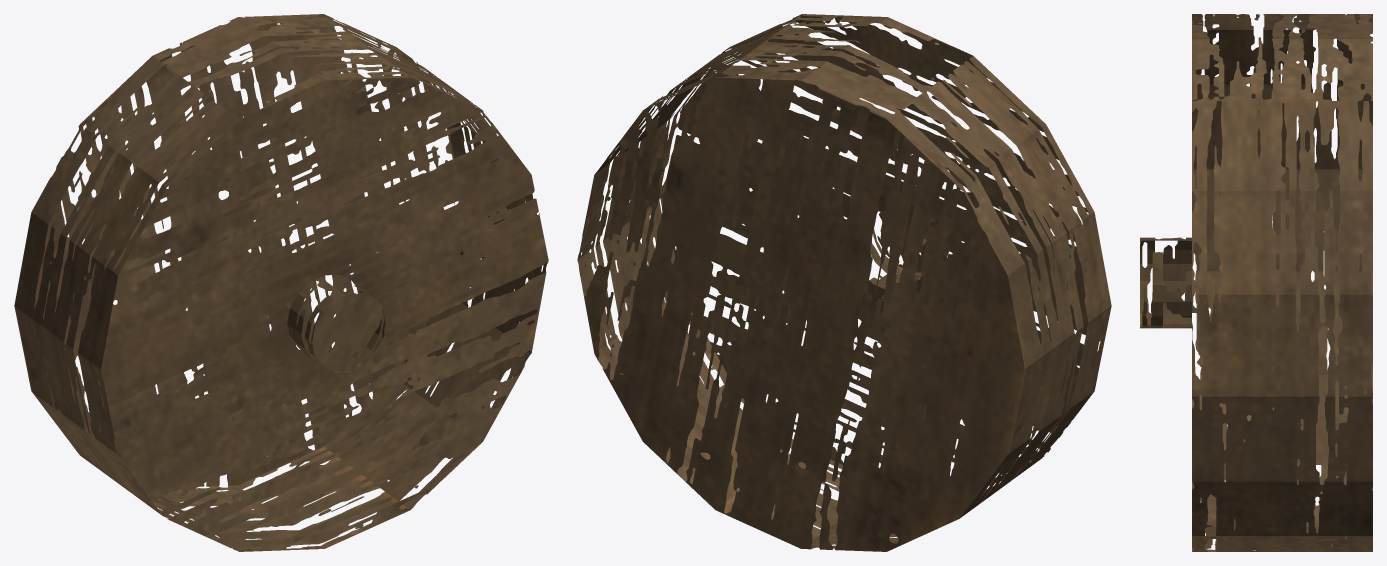
The model's file is Wheel1.obj.
3 views of the same model, side by side, from view 1: azimuth 30°, elevation 25°; view 2: azimuth 150°, elevation 25°; view 3: azimuth 270°, elevation 25° (orthographic). The views are drawn at different scales.
Parts seen in each view (by area): view 1: Wheel1; view 2: Wheel1; view 3: Wheel1.
Part boxes in pixels (left/top/right/bottom): Wheel1: left=14, top=14, right=548, bottom=551; Wheel1: left=577, top=14, right=1111, bottom=551; Wheel1: left=1140, top=14, right=1372, bottom=551.
Size of the model in its own units: 3.45 by 3.45 by 1.49.
